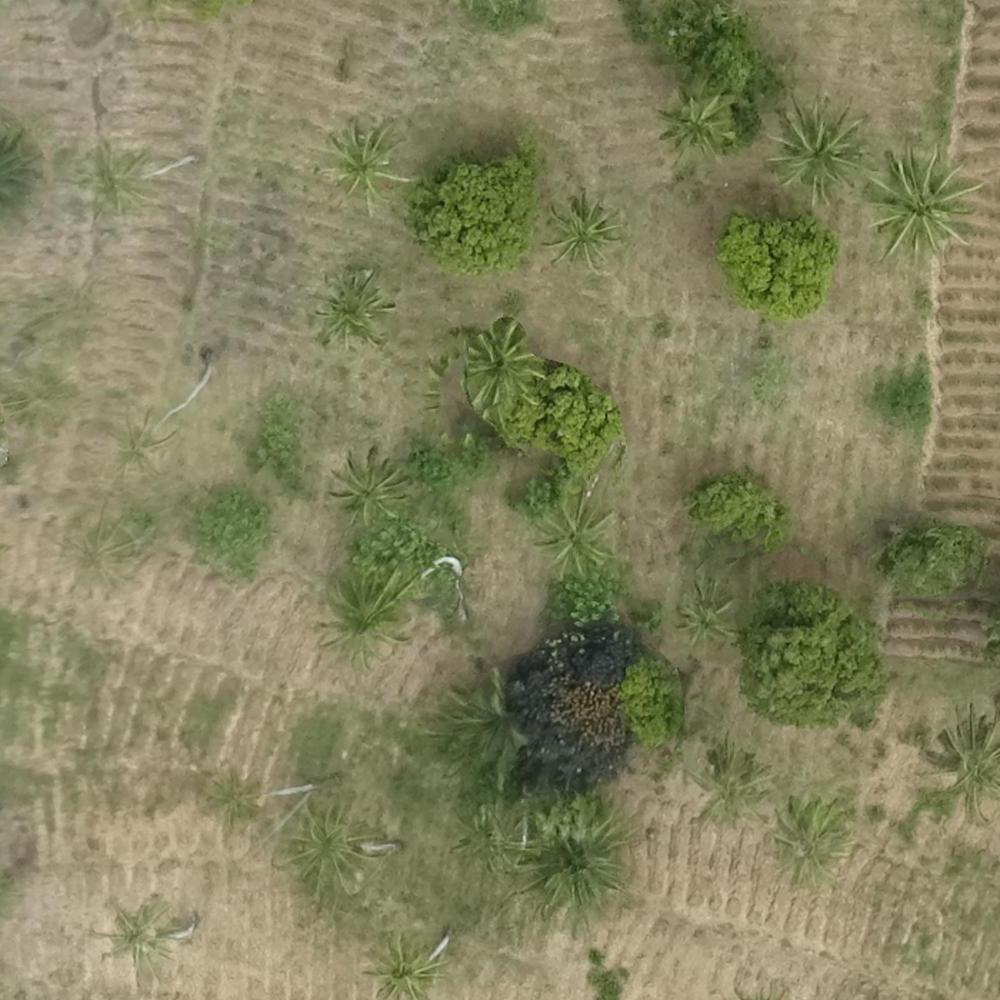Palm: (875, 149, 969, 255), (766, 100, 862, 201), (320, 121, 409, 206), (926, 713, 1000, 808), (318, 578, 400, 659), (312, 266, 394, 343), (465, 327, 547, 404), (536, 498, 610, 574), (363, 930, 437, 1000), (333, 446, 404, 516), (659, 92, 732, 159), (547, 191, 616, 261), (677, 590, 734, 652)
